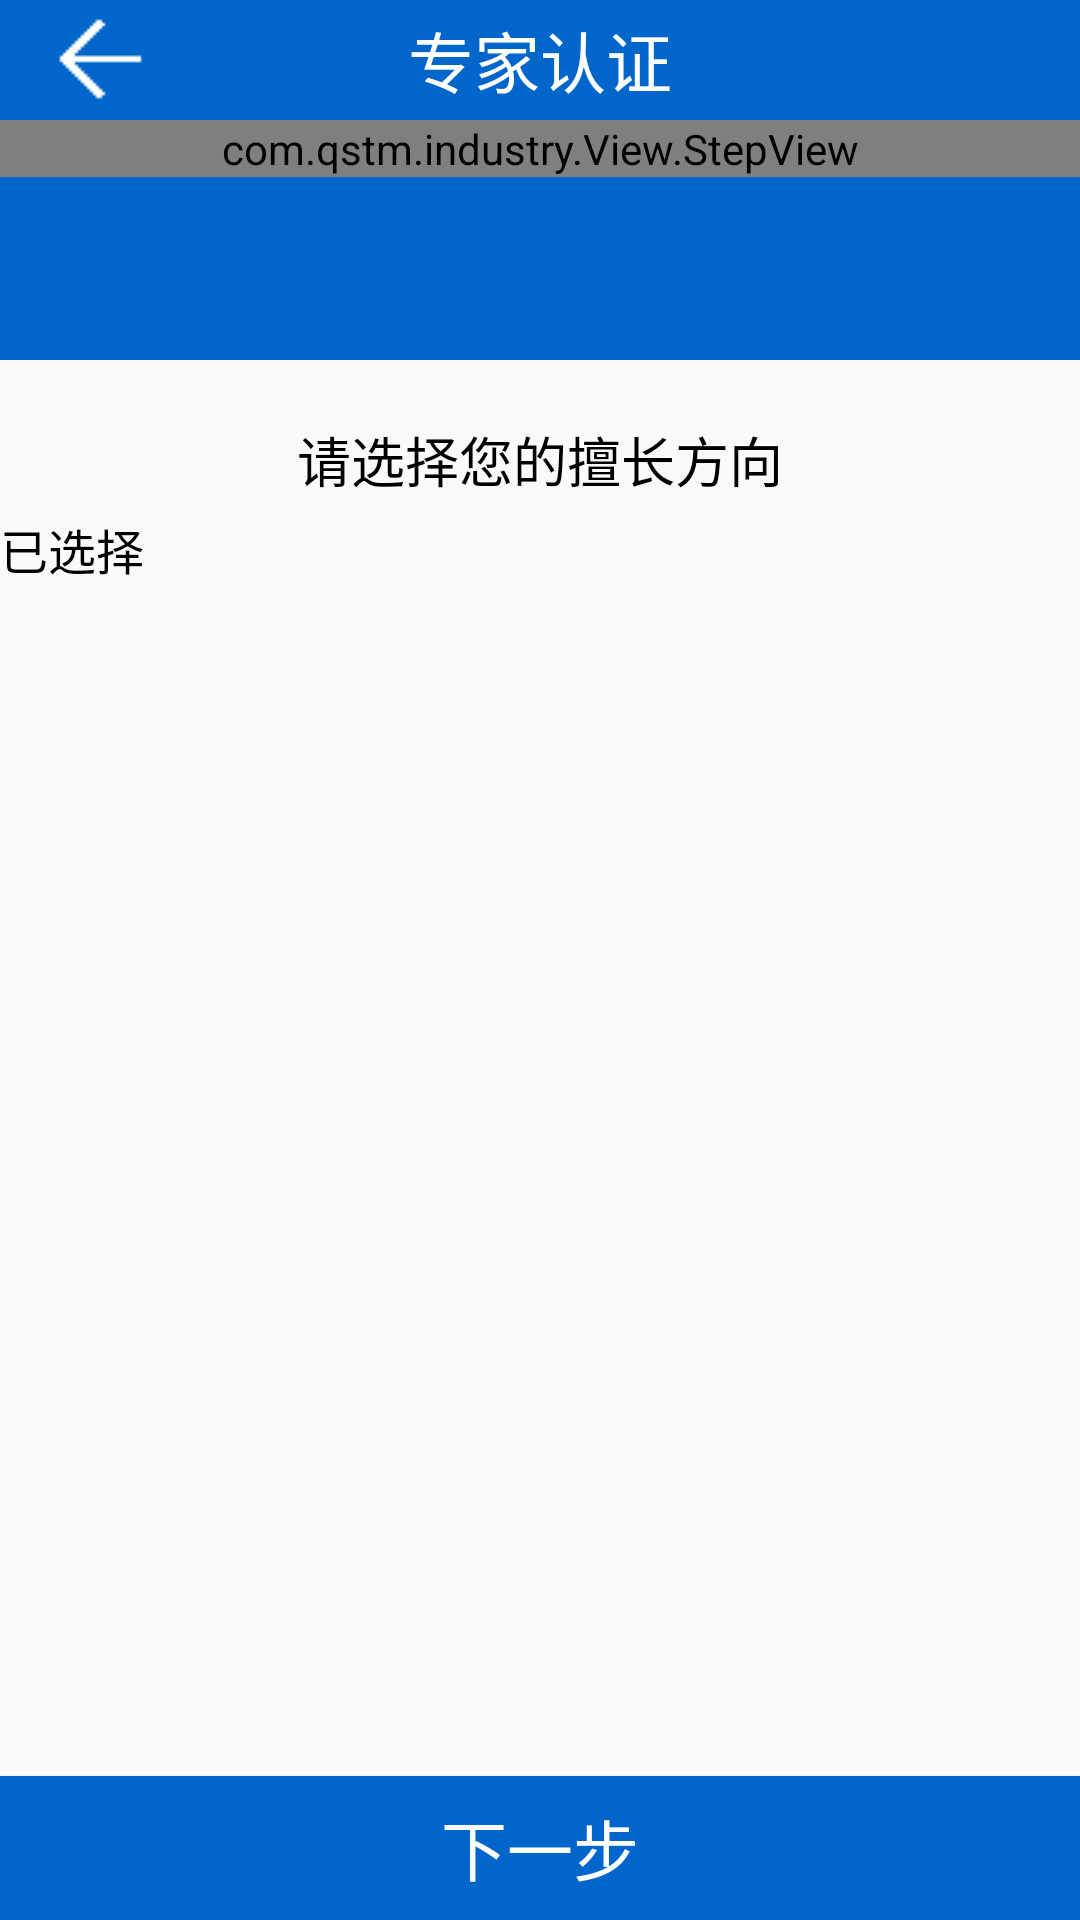

Locate icon controls on the screen. Image size 1080*1920, boxes as region(x1, y1, x2, y2).
back: region(59, 19, 142, 99)
